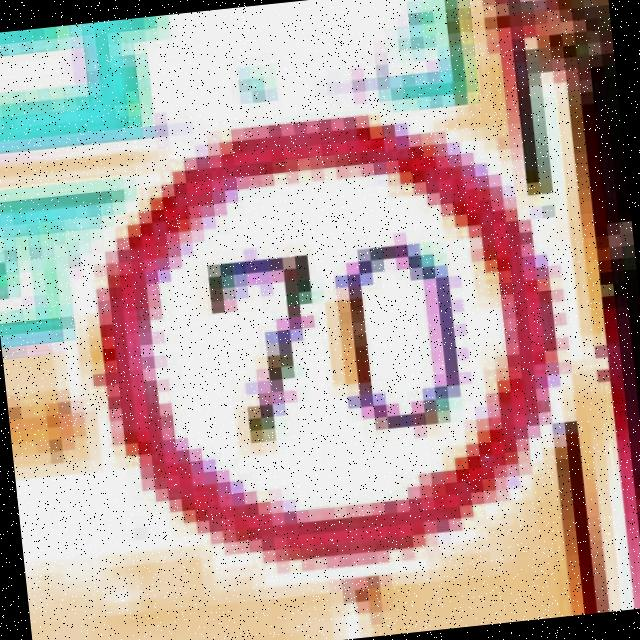Ograniczenie predkosci do 70: (76, 94, 574, 577)
